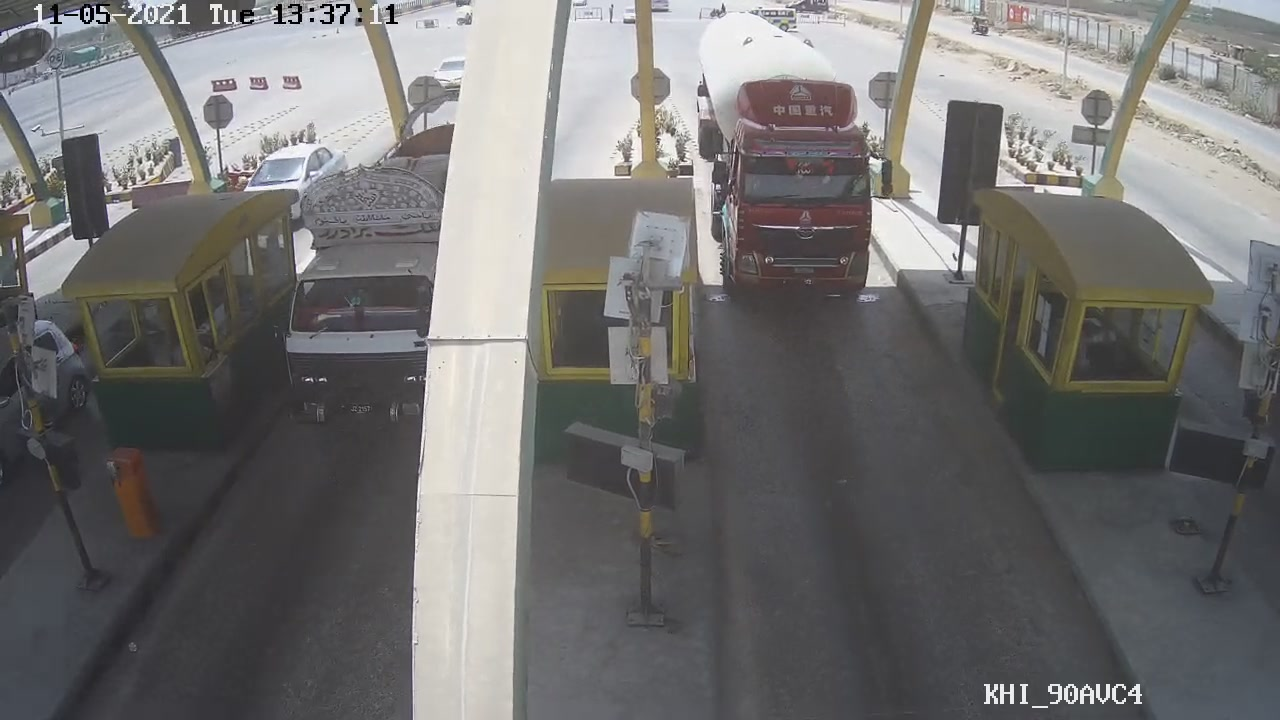F6: (701, 37, 896, 314)
